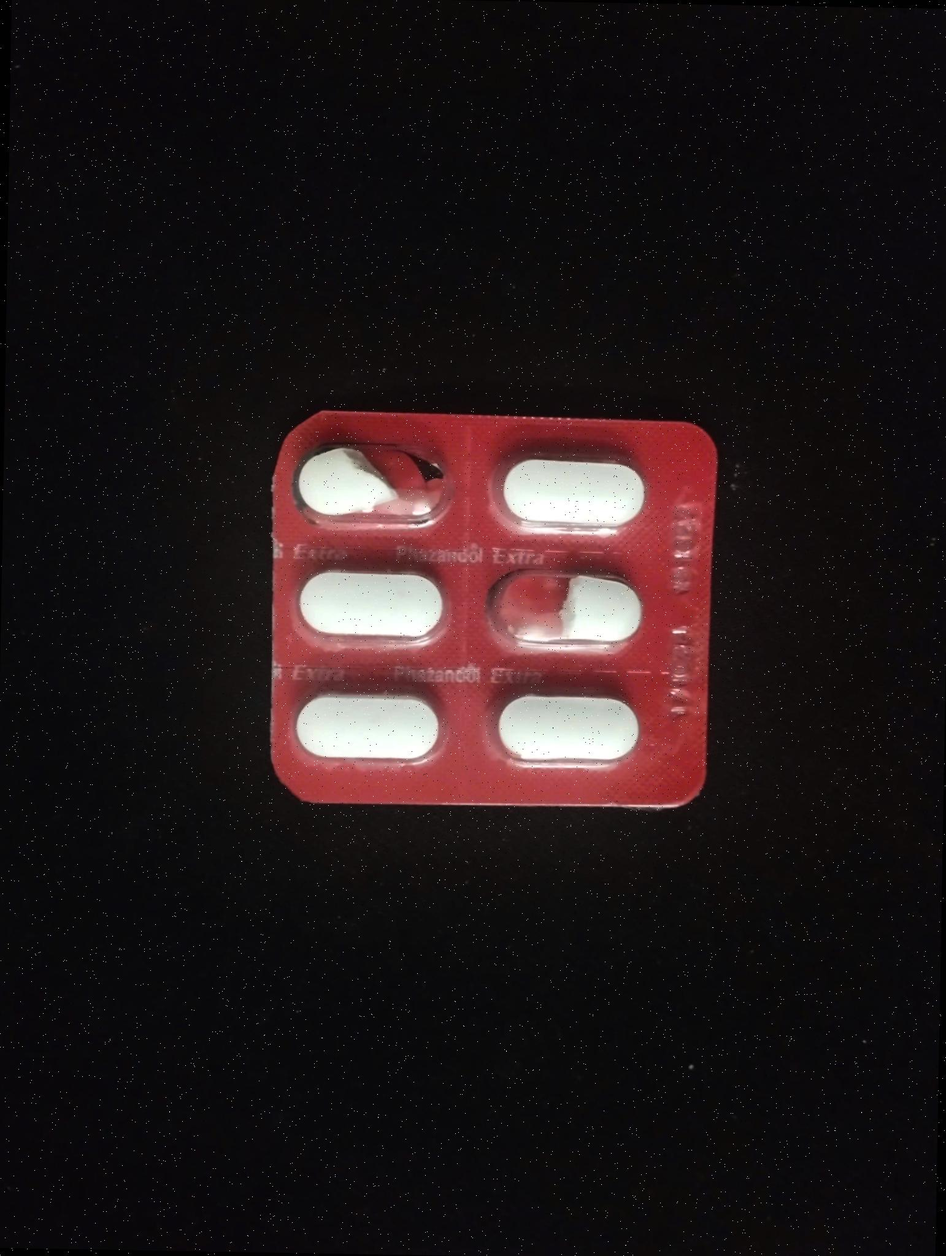Full: (484, 680, 646, 776), (285, 680, 445, 767), (290, 562, 449, 649), (493, 452, 658, 534)
Partial: (272, 429, 452, 535), (483, 567, 648, 656)
